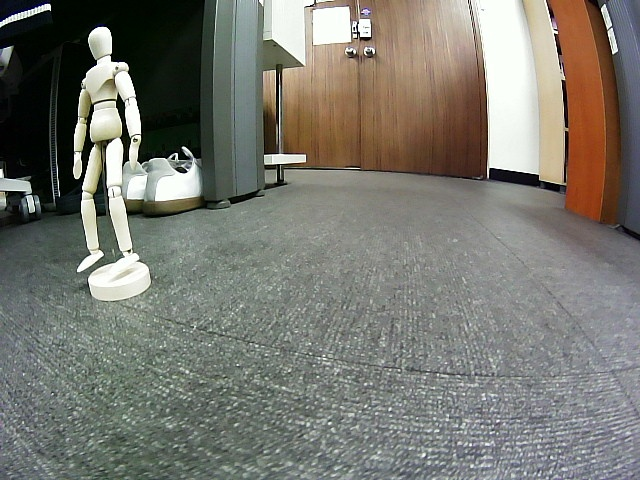person: (71, 26, 142, 278)
